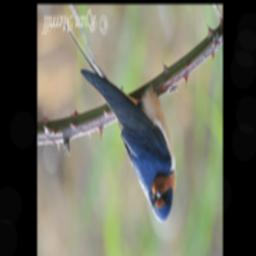Swallow: (62, 18, 177, 223)
